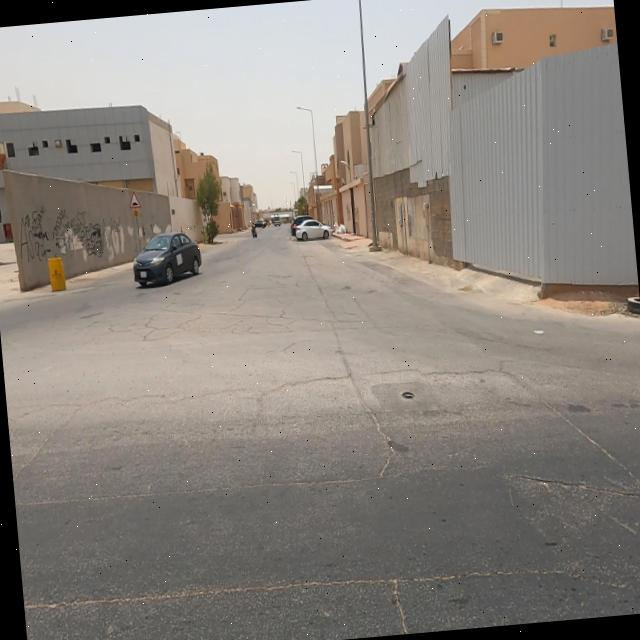Graffiti: (51, 200, 129, 267), (17, 206, 49, 266)
